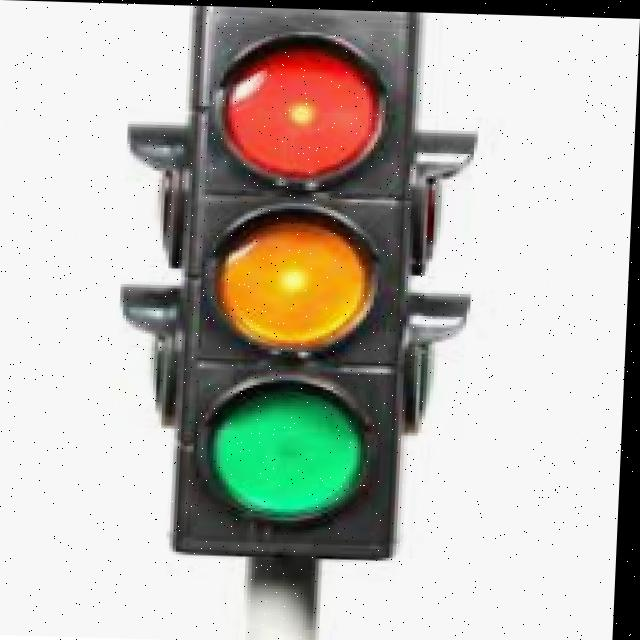light_traffic: (104, 12, 509, 613)
